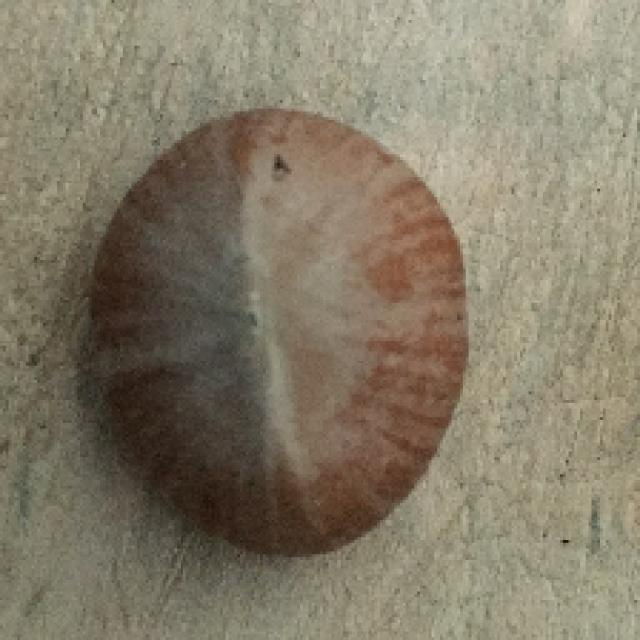qualityHazelnut: (80, 98, 471, 556)
